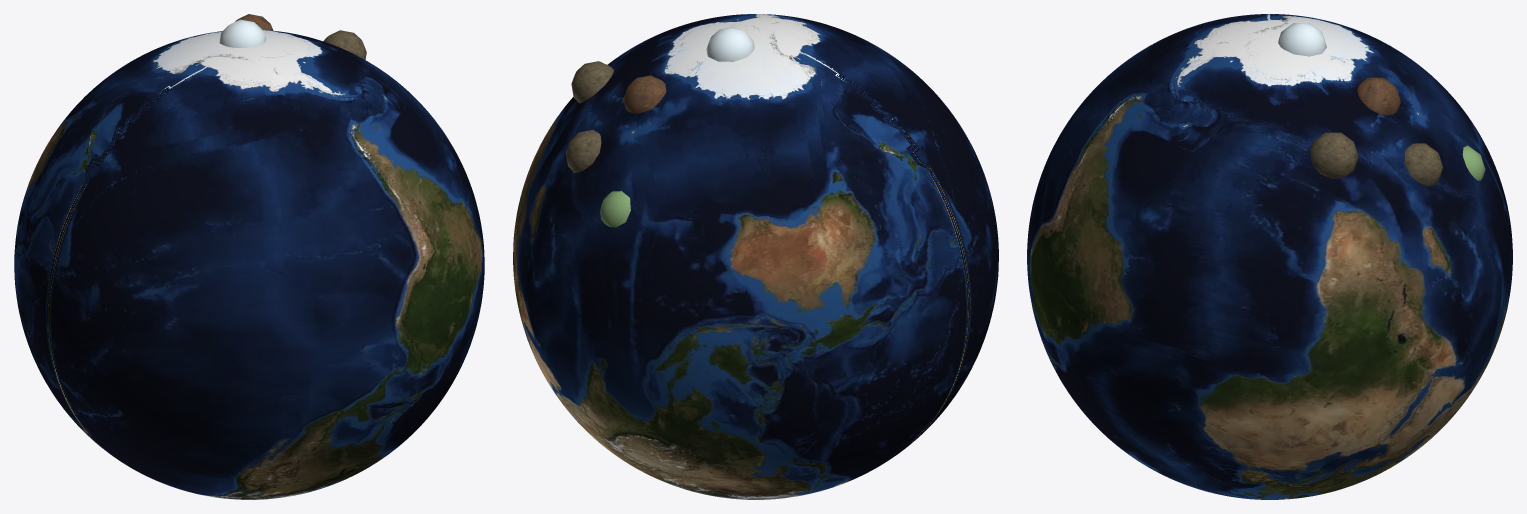
Rendered from climate-types.glb.
3 renders of one model, left to right at view 1: azimuth 30°, elevation 25°; view 2: azimuth 150°, elevation 25°; view 3: azimuth 270°, elevation 25°, orthographic. The views are drawn at different scales.
Parts seen in each view (by area): view 1: Climate_Earth, Climate_E, Climate_B; view 2: Climate_Earth, Climate_E, Climate_D, Climate_B, Climate_C, Climate_A; view 3: Climate_Earth, Climate_B, Climate_C, Climate_E, Climate_D.
Part boxes in pixels (left/top/right/bottom): Climate_Earth: left=14, top=30, right=484, bottom=499; Climate_E: left=219, top=19, right=266, bottom=47; Climate_B: left=323, top=30, right=366, bottom=59; Climate_Earth: left=513, top=14, right=998, bottom=499; Climate_E: left=706, top=27, right=754, bottom=61; Climate_D: left=623, top=75, right=666, bottom=113; Climate_B: left=571, top=61, right=613, bottom=103; Climate_C: left=565, top=129, right=601, bottom=172; Climate_A: left=600, top=191, right=630, bottom=227; Climate_Earth: left=1027, top=14, right=1512, bottom=499; Climate_B: left=1310, top=132, right=1358, bottom=178; Climate_C: left=1404, top=143, right=1443, bottom=186; Climate_E: left=1278, top=23, right=1326, bottom=56; Climate_D: left=1357, top=77, right=1400, bottom=115.
Bounding box in the file's own units: 2.3 × 2.39 × 2.3.
Materials: 6 (4 with a texture image).
